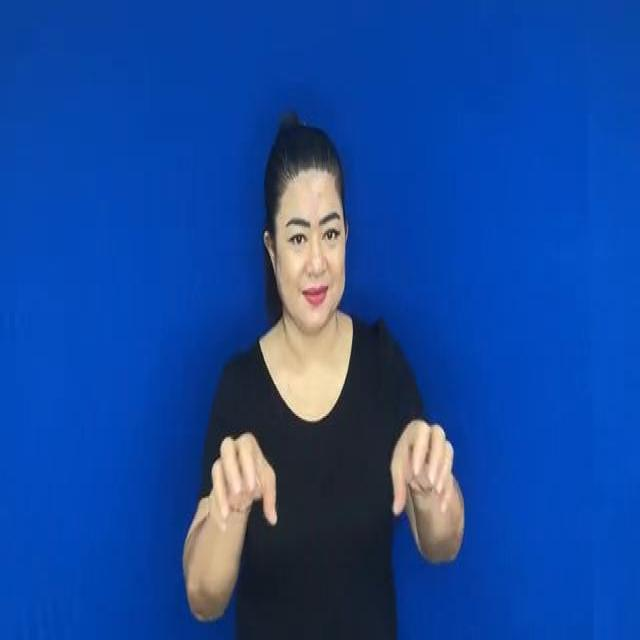egg: (186, 393, 467, 548)
